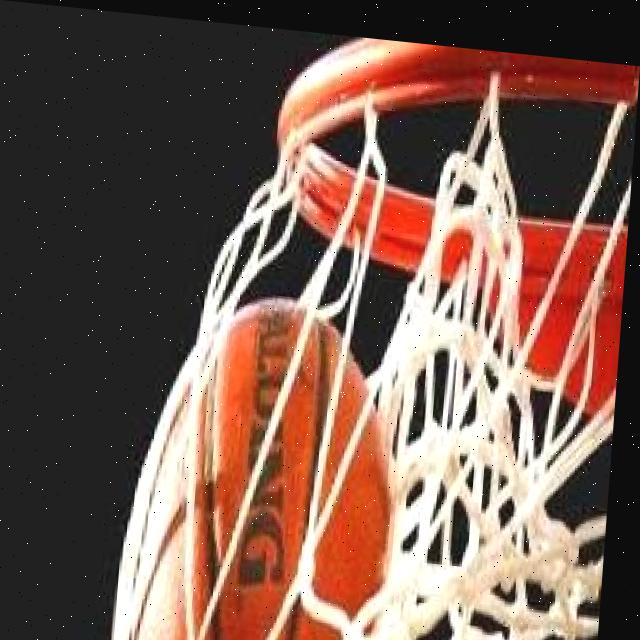basketball: (107, 281, 428, 640)
hoop: (48, 10, 640, 640), (48, 10, 640, 640)
